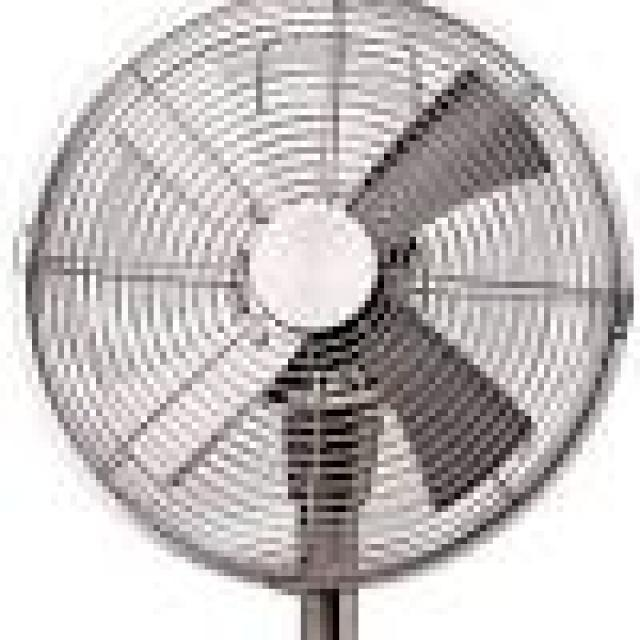fan: (78, 12, 626, 614)
